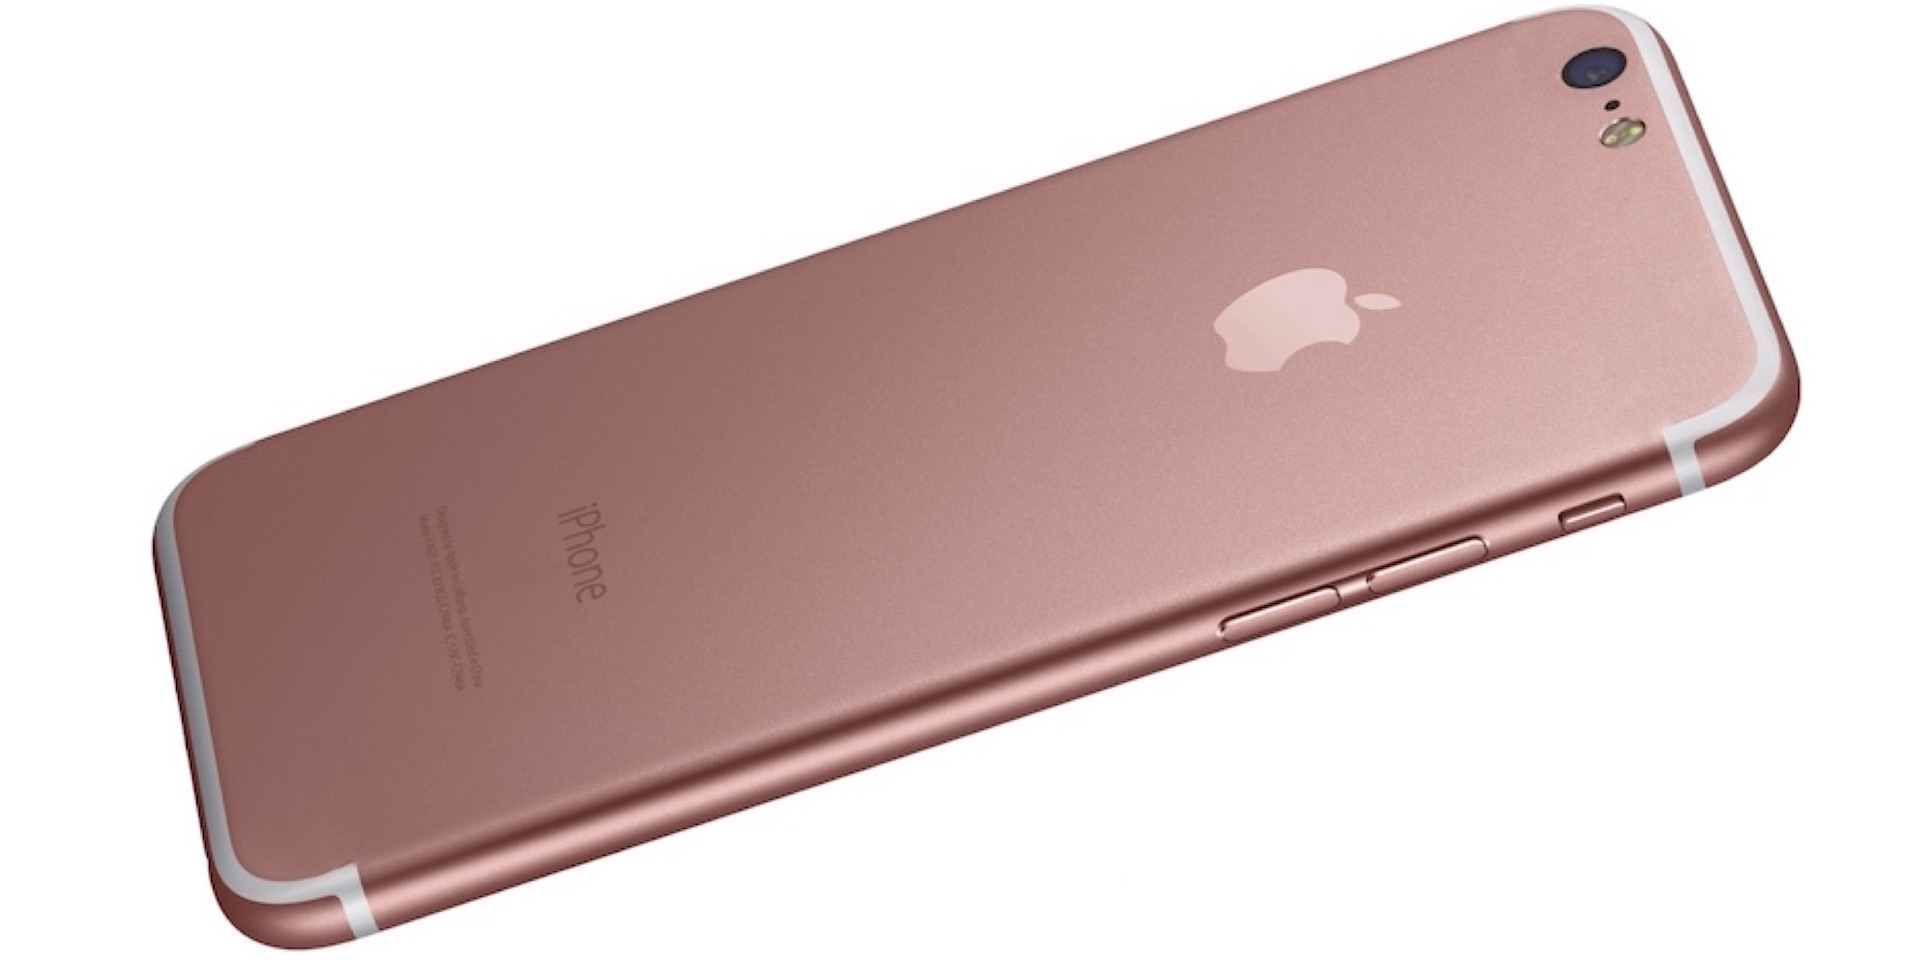smartphone: (149, 4, 1804, 953)
